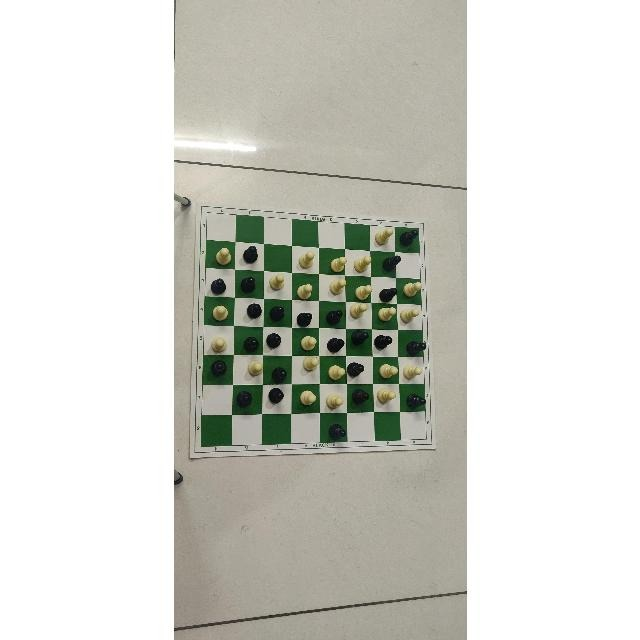black-pawn: (397, 226, 419, 251), (404, 338, 428, 360), (240, 239, 258, 266), (236, 388, 256, 411), (325, 422, 349, 441), (238, 274, 258, 296), (382, 252, 402, 274), (406, 393, 429, 412), (325, 336, 344, 358), (347, 329, 369, 346), (295, 309, 314, 328), (210, 358, 228, 378), (373, 333, 393, 351), (322, 309, 344, 325), (265, 387, 284, 405), (346, 359, 364, 378), (243, 302, 262, 320), (377, 286, 396, 304), (270, 365, 290, 382), (267, 304, 284, 324), (208, 276, 226, 294), (351, 387, 371, 402), (243, 334, 260, 351), (265, 332, 281, 350)
white-pawn: (399, 304, 422, 326), (211, 243, 231, 268), (266, 271, 287, 294), (352, 252, 372, 276), (349, 300, 371, 321), (403, 361, 425, 382), (375, 385, 397, 406), (209, 331, 229, 354), (326, 255, 348, 275), (371, 223, 394, 242), (379, 362, 400, 382), (378, 302, 397, 324), (294, 281, 317, 299), (297, 249, 315, 271), (328, 277, 347, 297), (400, 279, 421, 297), (210, 303, 228, 324), (328, 254, 347, 272), (245, 360, 263, 378), (328, 363, 345, 382), (299, 335, 319, 351), (303, 353, 319, 373), (298, 388, 316, 405), (326, 392, 343, 410), (354, 282, 370, 298)
